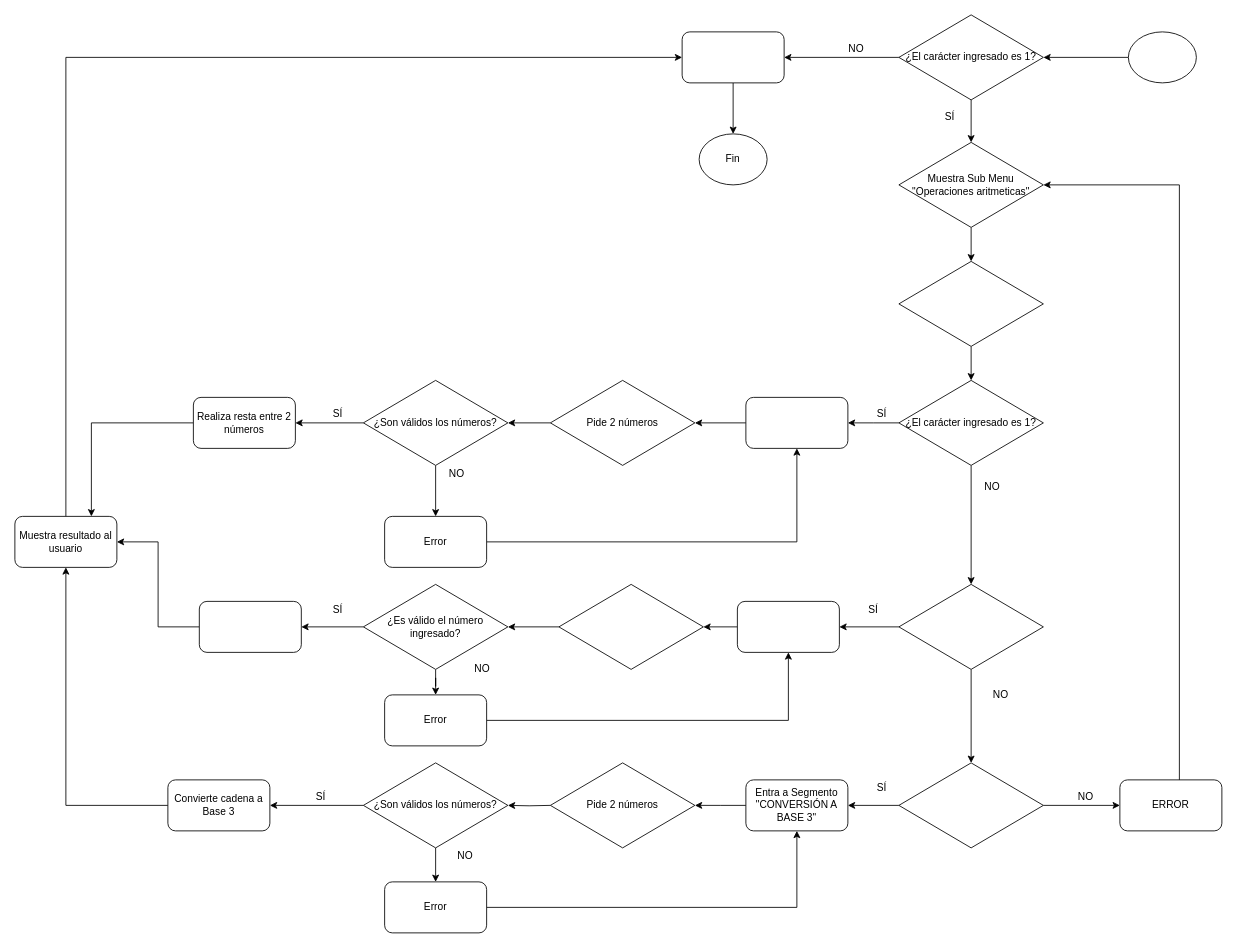
Some shapes in this 1237 by 948 pixel diagram are drawn without their labels. The shapes that lost their labels are listed below. From the top down, each one's box as (x1, y1, x2, y2) in pixels, then its label:
(681, 31, 784, 83): Menú General
(1128, 31, 1196, 83): Inicio
(898, 261, 1043, 346): Pide Carácter
(745, 397, 848, 448): Entra a Segmento "RESTA"
(198, 601, 301, 652): Eleva al cuadrado el número ingresado
(558, 584, 703, 669): Pide 1 número
(737, 601, 839, 652): Entra a Segmento "CUADRADO"
(898, 584, 1043, 669): ¿El carácter ingresado es 2?
(898, 762, 1043, 848): ¿El carácter ingresado es 3?
